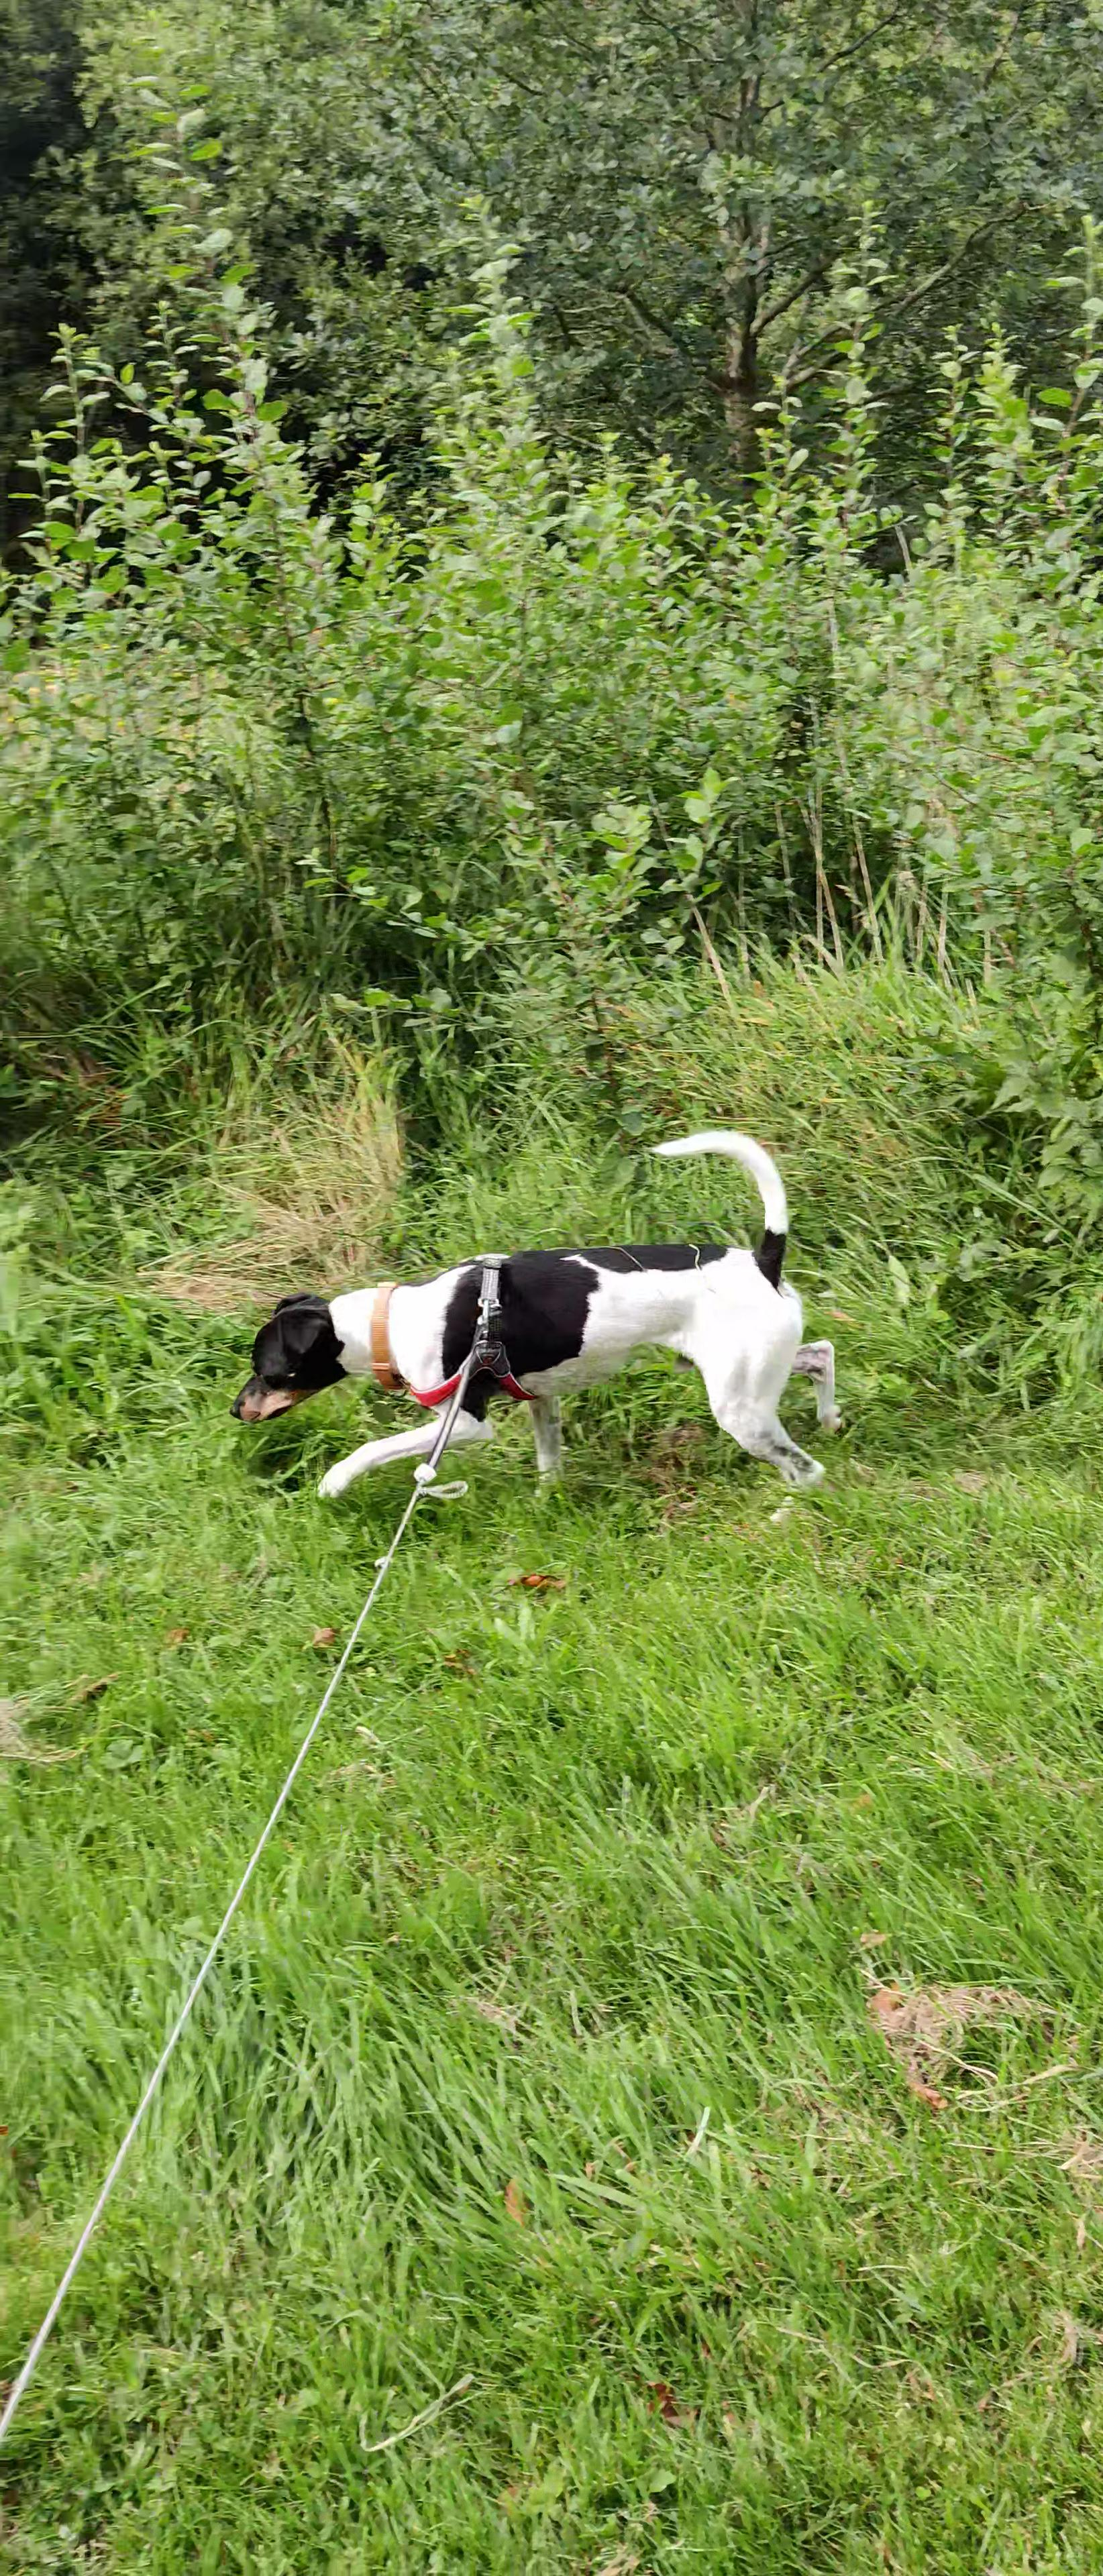Dog: (219, 1127, 845, 1523)
